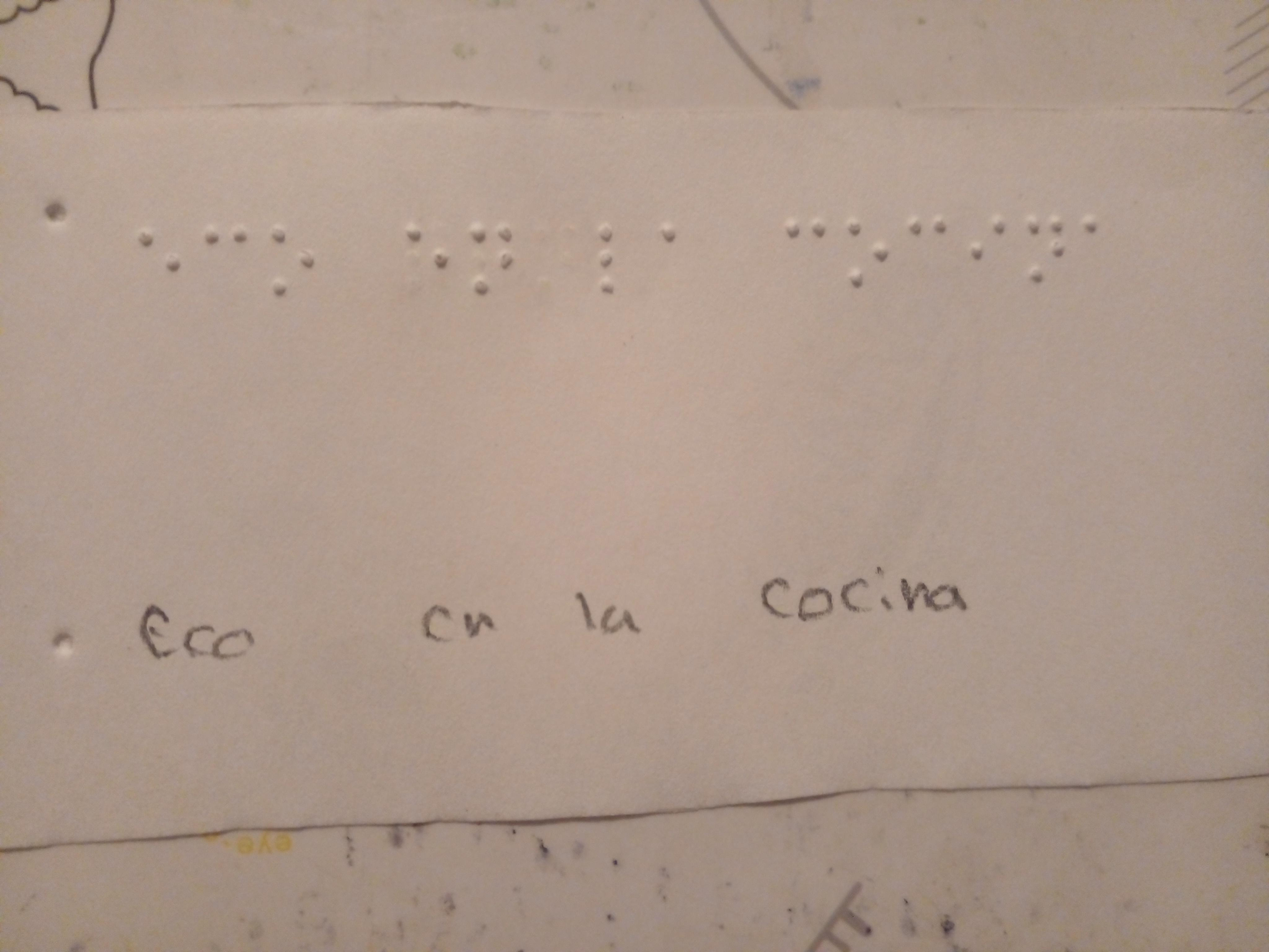a: (638, 214, 697, 259), (1074, 211, 1117, 263)
c: (771, 206, 835, 280), (192, 215, 254, 291), (902, 212, 954, 276)
e: (127, 209, 192, 304), (393, 212, 459, 301)
i: (965, 209, 1007, 274)
l: (595, 212, 618, 307)
n: (468, 217, 527, 304), (1016, 212, 1070, 290)
o: (260, 225, 322, 307), (841, 218, 897, 296)
